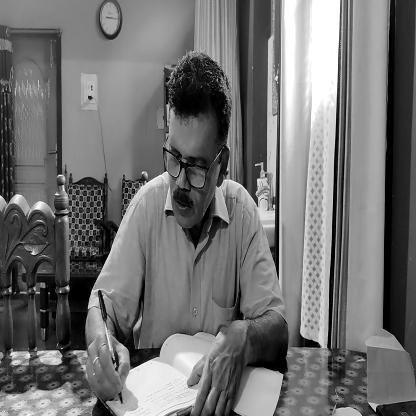Normal: (161, 52, 228, 232)
